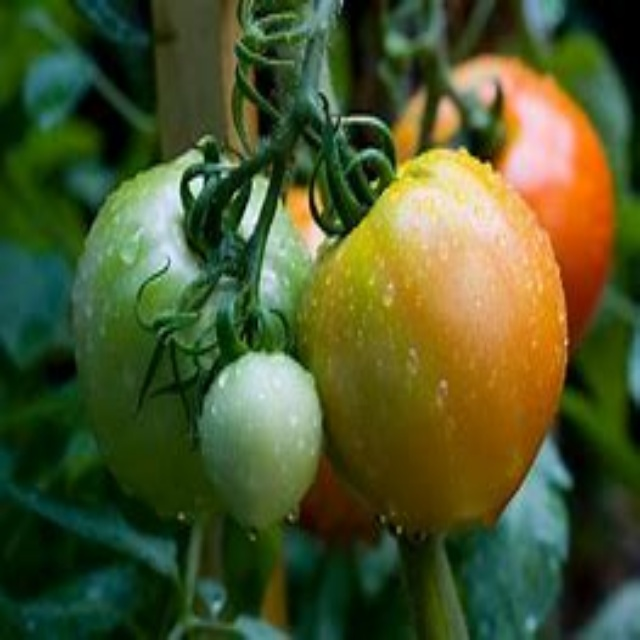tomato: (319, 157, 567, 525), (69, 152, 307, 508), (379, 45, 607, 351), (198, 354, 338, 539)
